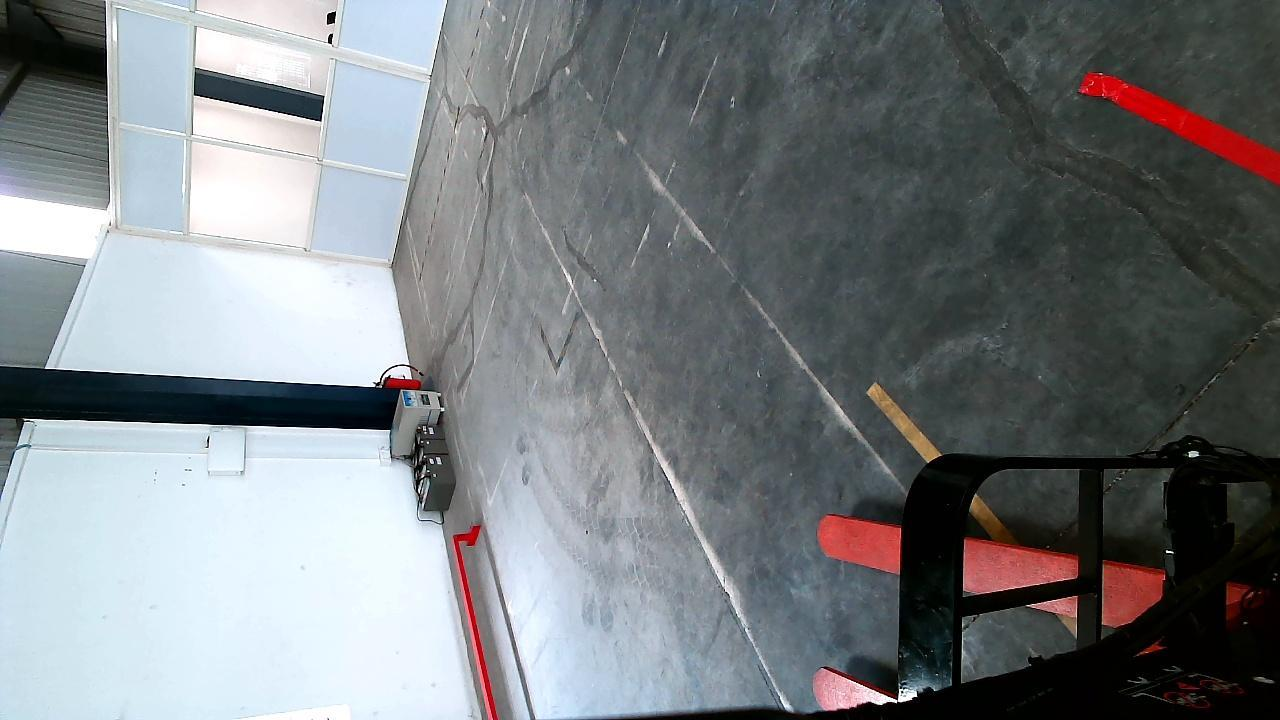red_line: (1084, 68, 1280, 184)
